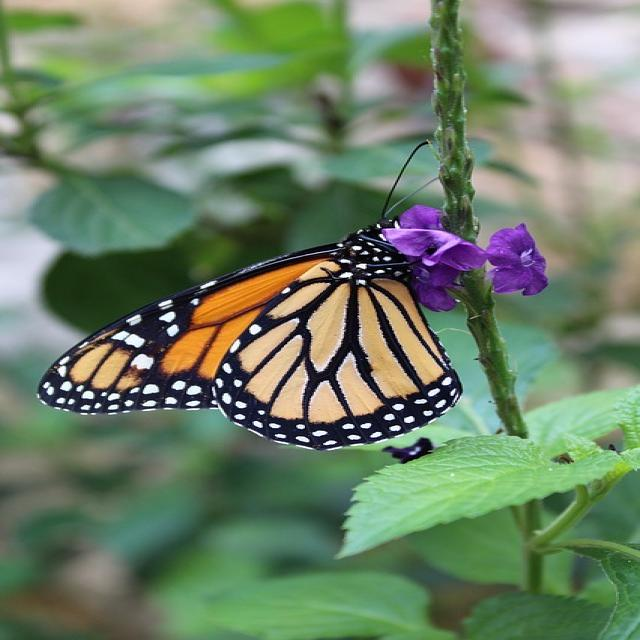butterfly: (36, 225, 464, 455)
